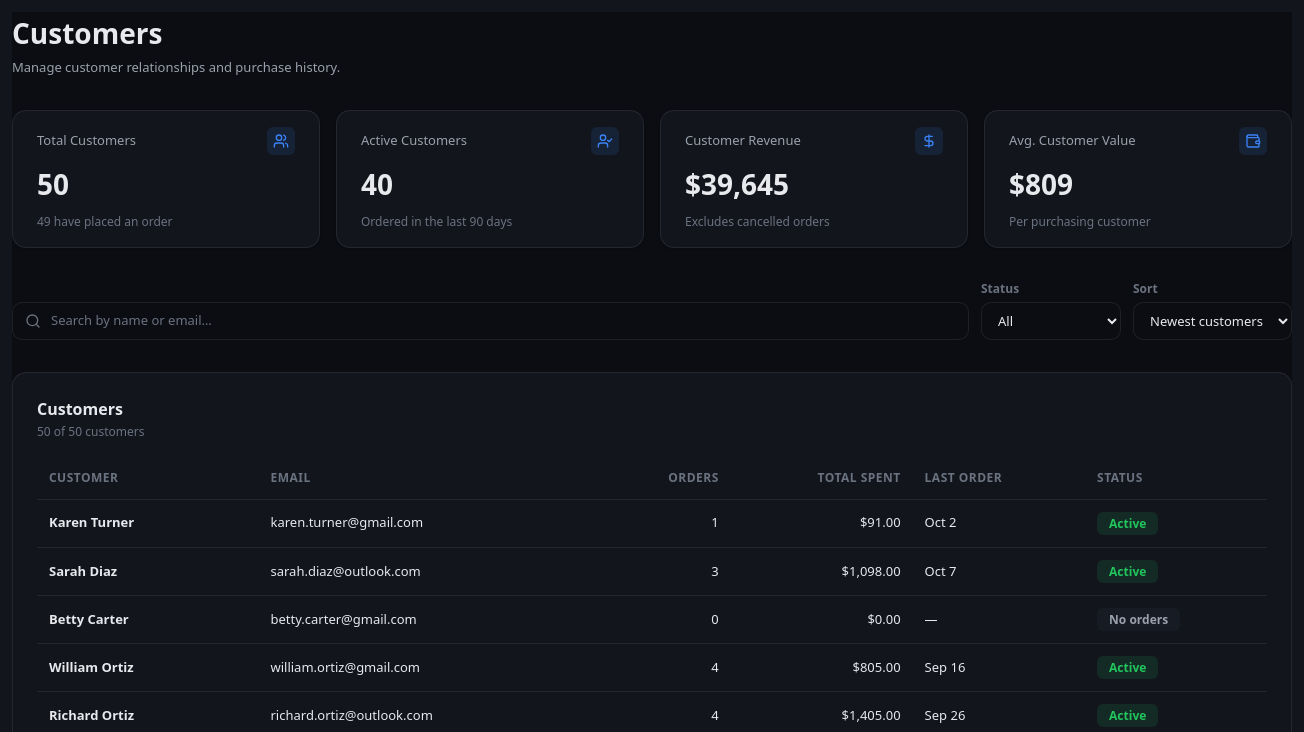
Test: Customers page › shows an empty state when nothing matches and recovers via Clear filters
Type "zzz-nobody-has-this-name" into the search field named "search customers". click: [502, 321]
box: [49,310,956,331]
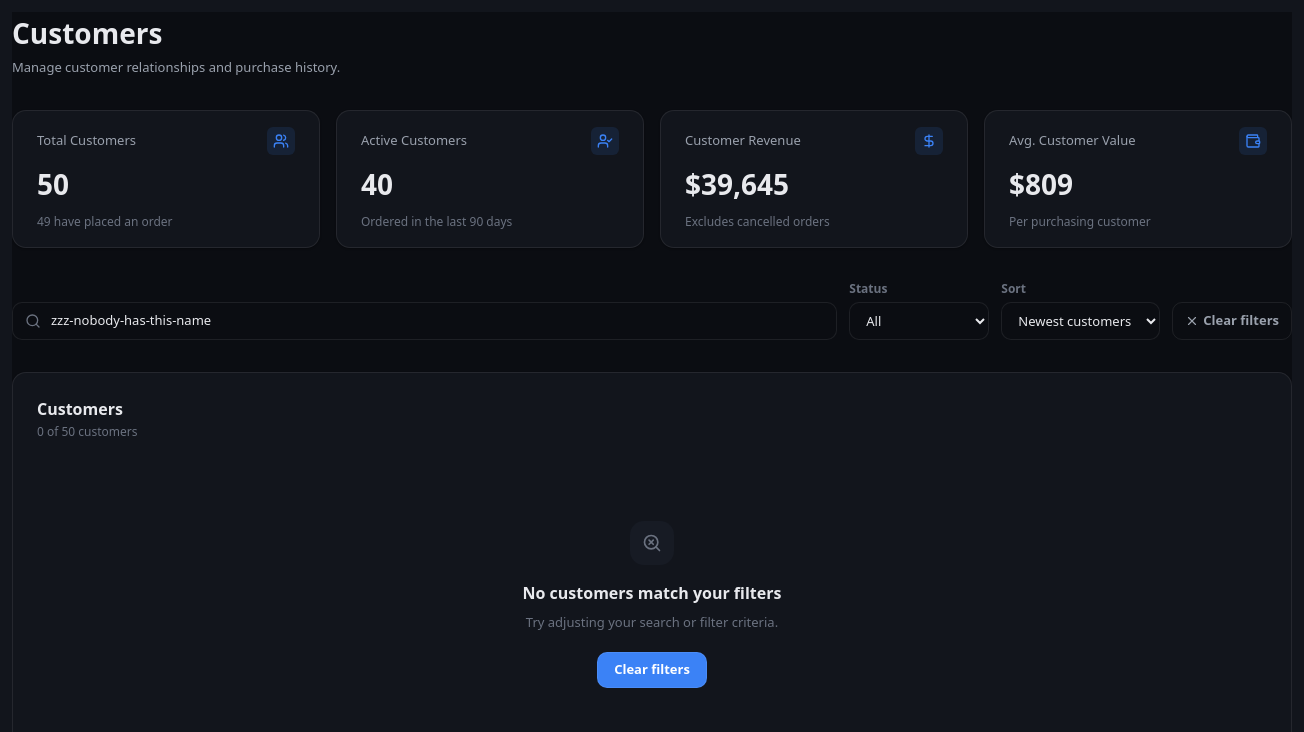
Expected: the text "No customers match your filters" is shown, [522,580,781,604]
Click the button "Clear filters" below "Sort". click: [1232, 320]
box: [1172,302,1292,340]
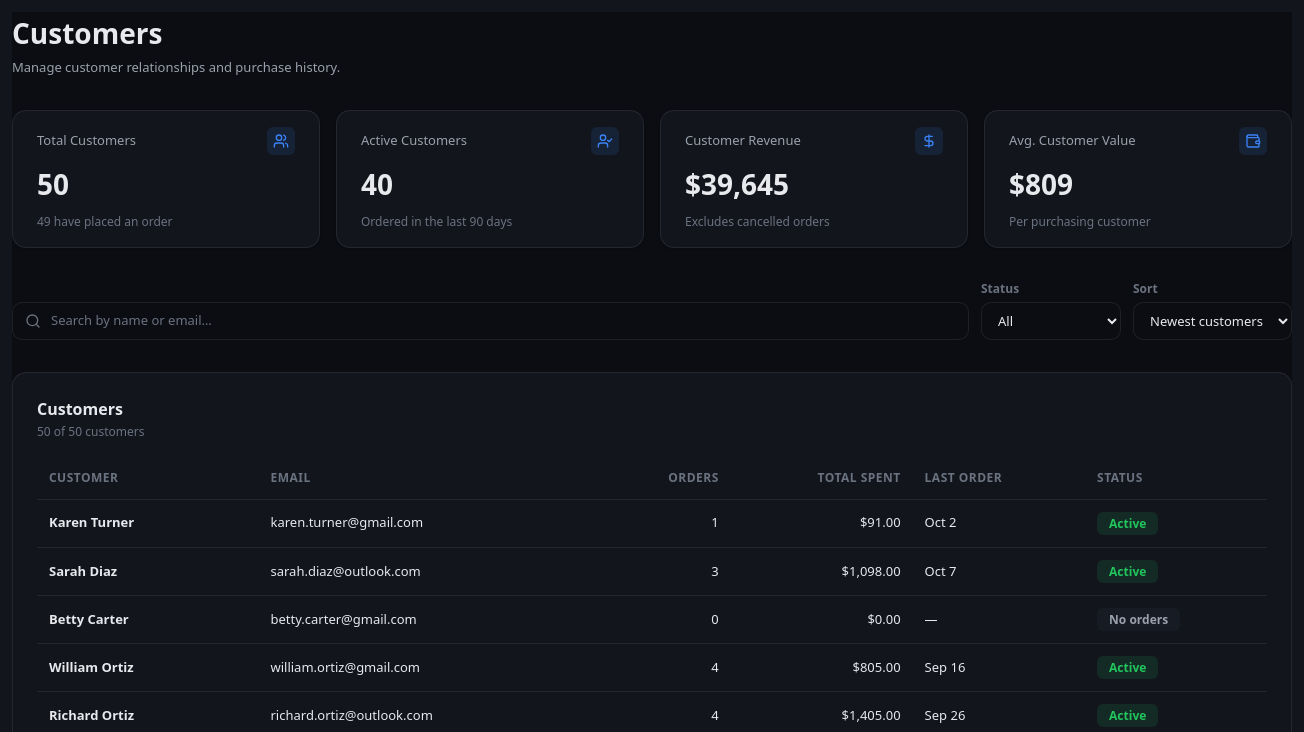
Expected: the text "No customers match your filters" is gone
Expected: the number of buttons named "View customer " is 10
